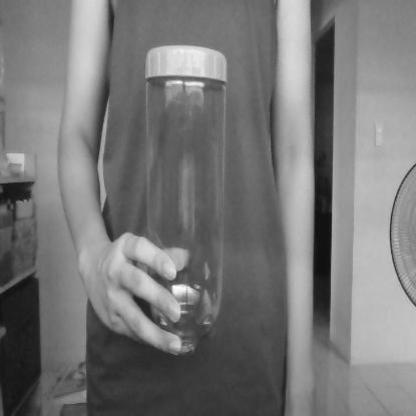Plastic Bottle: (147, 43, 225, 359)
